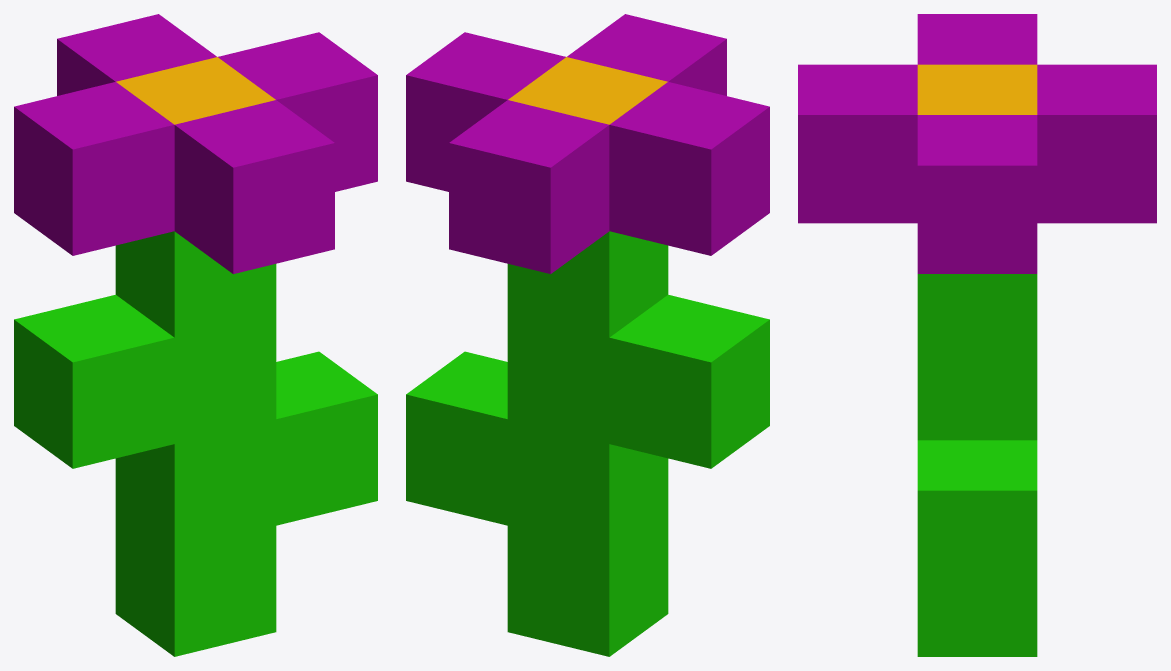
Rendered from (6) Violet Flowers (Stage 5).obj.
3 renders of one model, left to right at view 1: azimuth 30°, elevation 25°; view 2: azimuth 150°, elevation 25°; view 3: azimuth 270°, elevation 25°, orthographic.
Size of the model in its own units: 0.3 by 0.5 by 0.3.
Materials: 1 (1 with a texture image).
